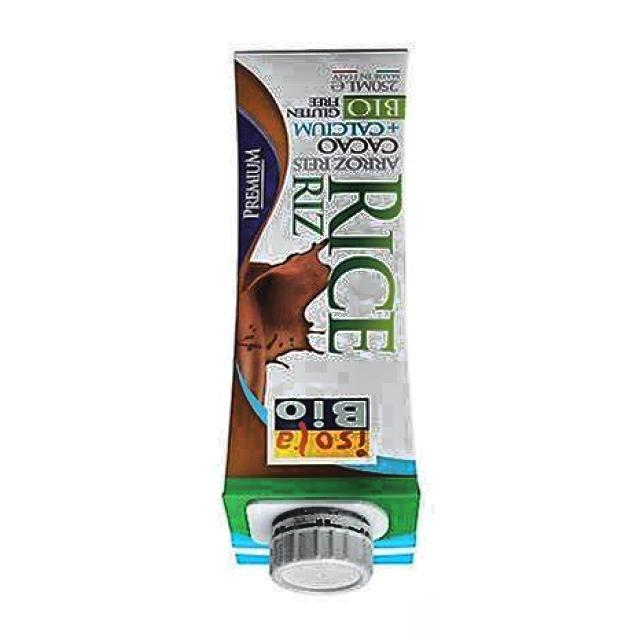cardboard: (222, 49, 423, 578)
